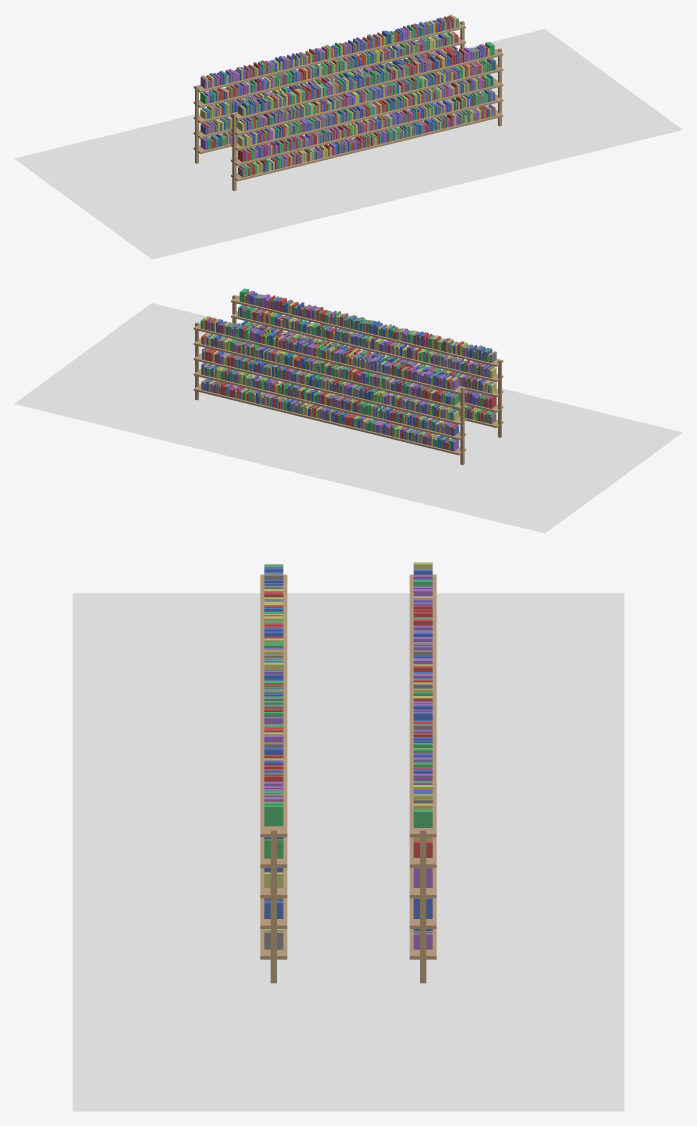
File: knjiznica.fbx
3 renders of one model, top to bottom at view 1: azimuth 30°, elevation 25°; view 2: azimuth 150°, elevation 25°; view 3: azimuth 270°, elevation 25°, orthographic. The views are drawn at different scales.
Parts seen in each view (by area): view 1: Plane, Cube.1282, Cube.717, Cube.1004, Cube.574, Cube.1143, Cube.432, Cube.857; view 2: Plane, Cube.1282, Cube.290, Cube.432, Cube.574, Cube.002, Cube.147, Cube.1143; view 3: Plane, Cube.1282, Cube.574, Cube.001, Cube.716.
Boxes of the visible parts, x1,y1,x2,y2 form: Plane: (14,29,682,259); Cube.1282: (231,49,503,120); Cube.717: (231,110,503,181); Cube.1004: (231,79,503,150); Cube.574: (193,21,465,92); Cube.1143: (231,64,503,135); Cube.432: (193,37,465,108); Cube.857: (231,95,503,165); Plane: (14,303,682,533); Cube.1282: (231,295,503,366); Cube.290: (193,353,465,424); Cube.432: (193,338,465,409); Cube.574: (193,323,465,394); Cube.002: (193,384,465,455); Cube.147: (193,369,465,439); Cube.1143: (231,311,503,382); Plane: (72,593,624,1111); Cube.1282: (260,574,287,837); Cube.574: (409,574,436,837); Cube.001: (420,828,426,983); Cube.716: (270,828,276,983).
Size of the model in its own units: 1600 by 243 by 720.
